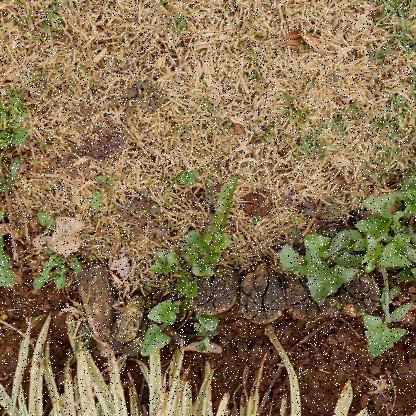Weeds: (280, 177, 415, 364), (140, 170, 238, 356), (1, 95, 25, 289), (34, 204, 82, 290), (86, 172, 116, 211)
